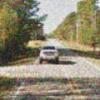cars: (39, 45, 59, 64)
